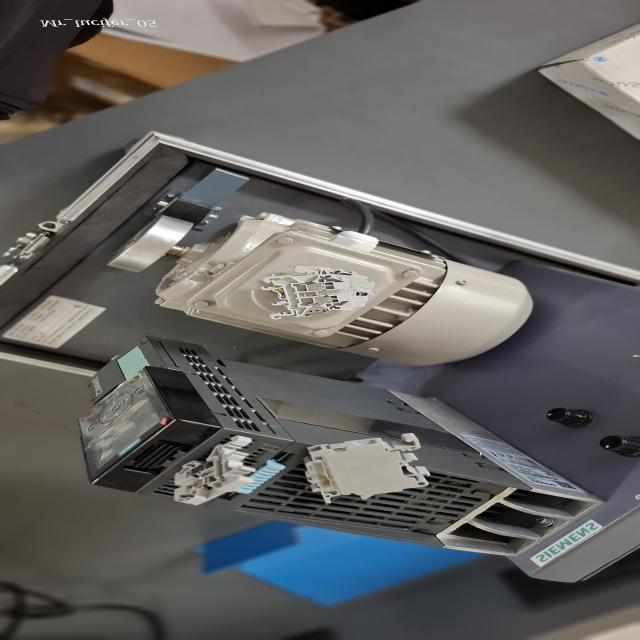Pass: (256, 265, 379, 322), (170, 435, 258, 507)
